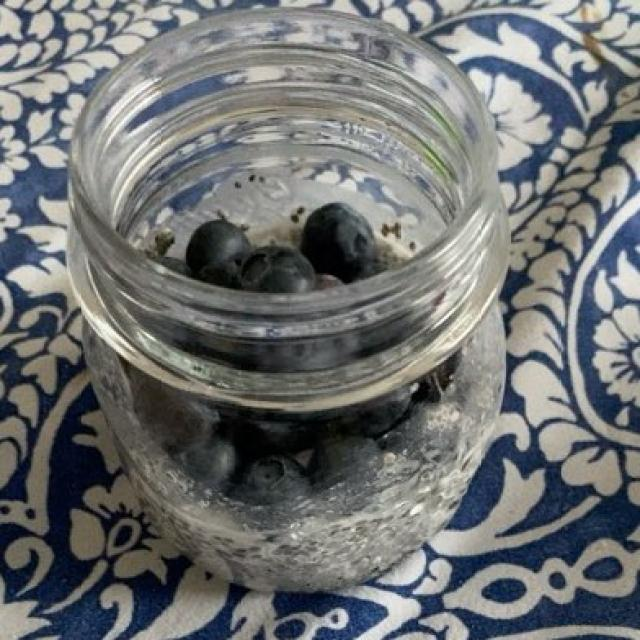blueberries: (174, 178, 399, 291)
